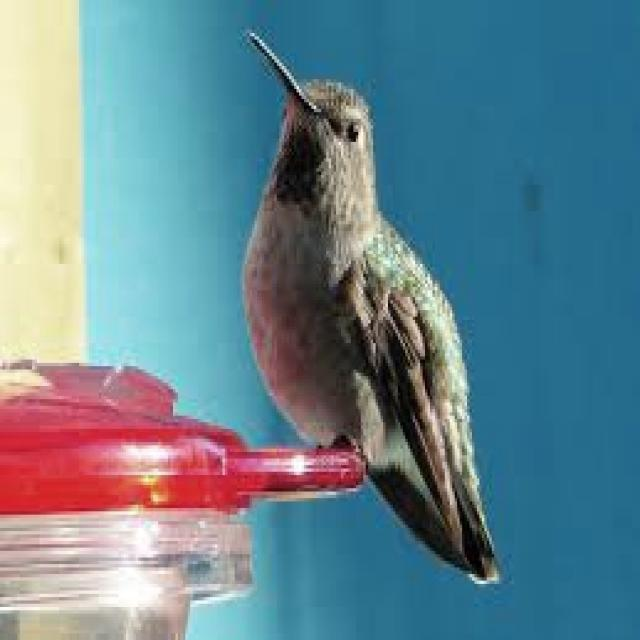hummingbird: (242, 40, 494, 577)
